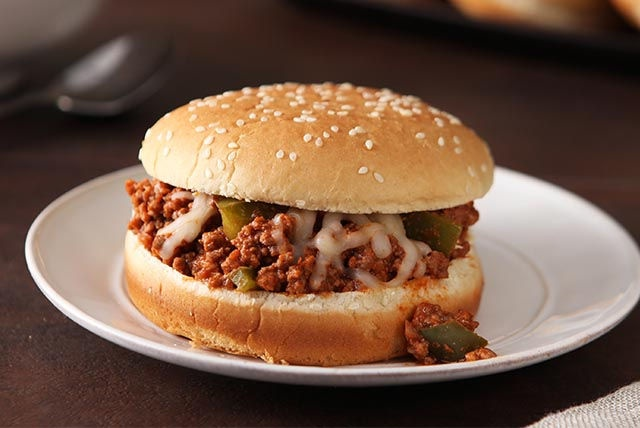background: (121, 53, 494, 245)
